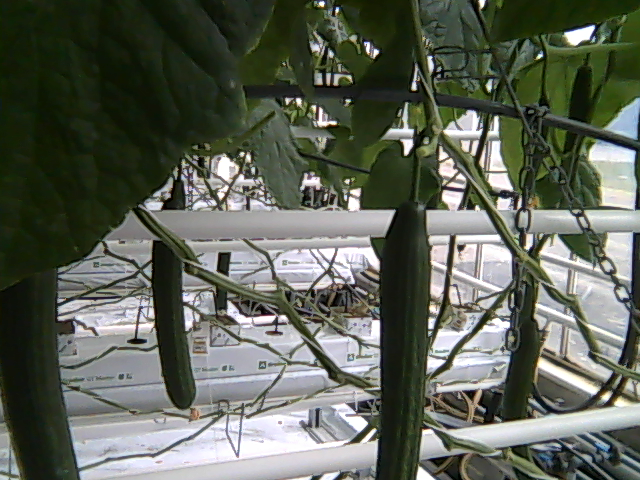concombre: (1, 264, 86, 480), (373, 194, 435, 480)
